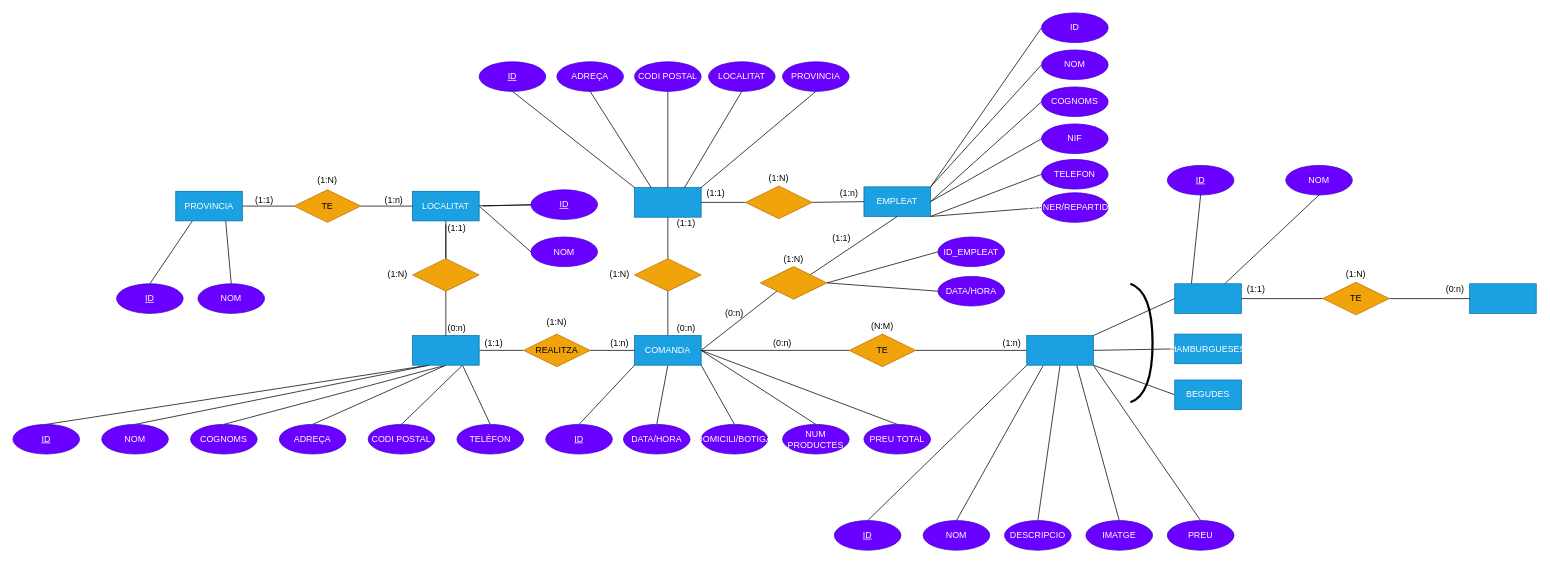
This 1550x563 diagram has some shape labels left out. Each missing label, with the centre of its shape:
BOTIGA: point (667, 202)
CATEGORIA: point (1207, 298)
CLIENT: point (445, 350)
ENTREGA: point (793, 282)
GESTIONA: point (667, 274)
PERTANY: point (445, 274)
PIZZES: point (1502, 298)
PRODUCTES: point (1059, 350)
TREBALLA: point (778, 202)
